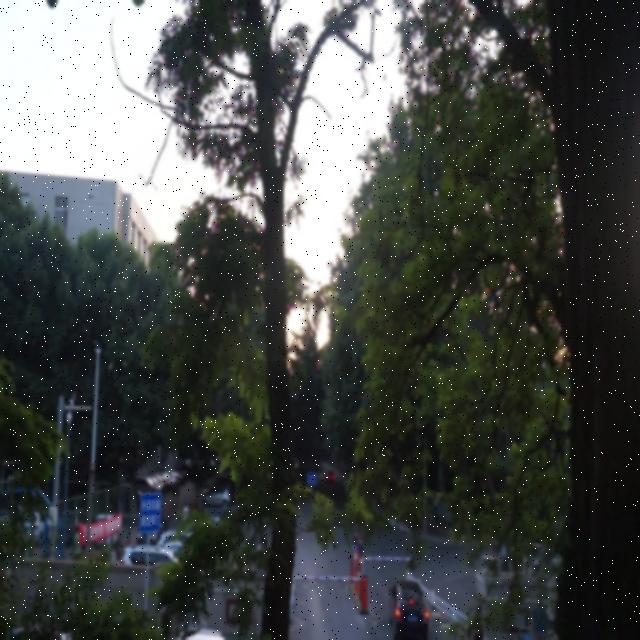UAV: (86, 192, 98, 203)
